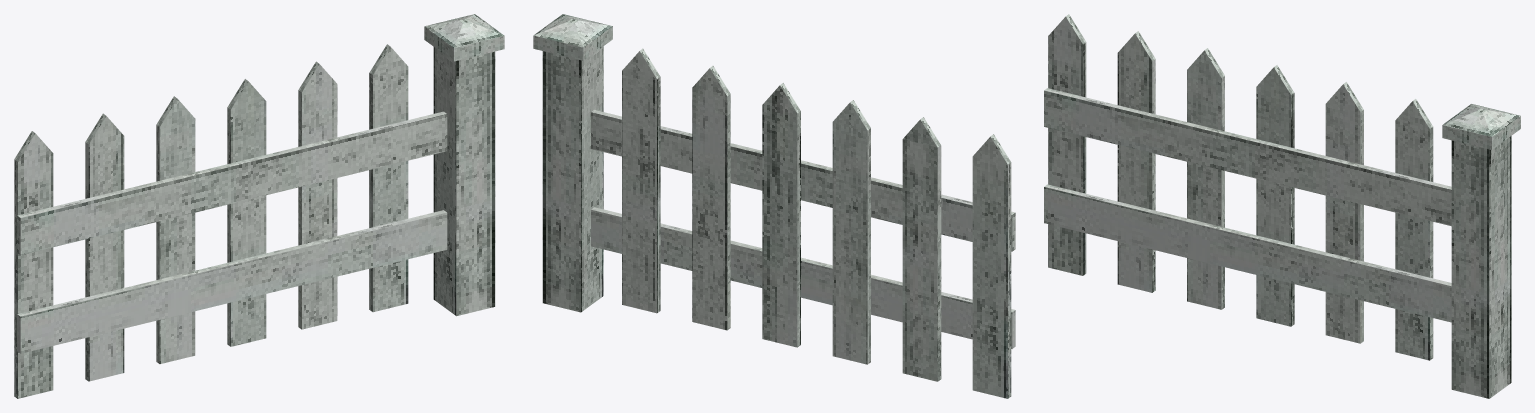
The model's file is white_picket_fence_closed_left.glb.
The picture shows the model from 3 angles, left to right: view 1: azimuth 30°, elevation 25°; view 2: azimuth 150°, elevation 25°; view 3: azimuth 330°, elevation 25°; orthographic projection. The views are drawn at different scales.
Visible parts, largest first — view 1: white_picket_fence_closed_left; view 2: white_picket_fence_closed_left; view 3: white_picket_fence_closed_left.
Boxes of the visible parts, bbox=[...] form: white_picket_fence_closed_left: bbox=[14, 14, 504, 398]; white_picket_fence_closed_left: bbox=[533, 14, 1015, 398]; white_picket_fence_closed_left: bbox=[1044, 14, 1520, 398].
Size of the model in its own units: 2.39 by 1.37 by 0.2613.
1 material, 1 textured.
